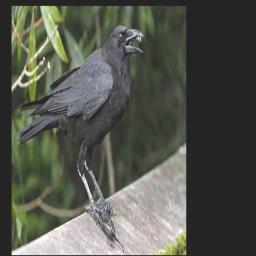Crow: (17, 24, 144, 226)
